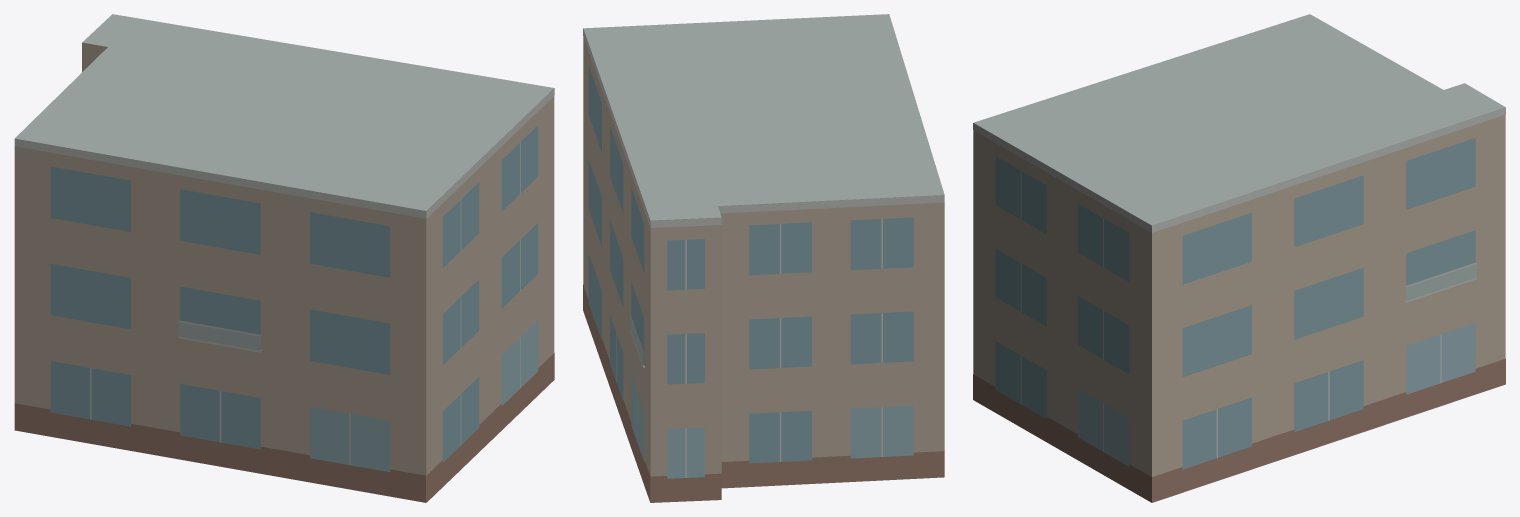
File: survey-upis-32717488.glb
3 renders of one model, left to right at view 1: azimuth 30°, elevation 25°; view 2: azimuth 150°, elevation 25°; view 3: azimuth 270°, elevation 25°, orthographic. The views are drawn at different scales.
Parts seen in each view (by area): view 1: survey-upis-32717488.tmp; view 2: survey-upis-32717488.tmp; view 3: survey-upis-32717488.tmp.
Part boxes in pixels (x1,y1,x2,y2): survey-upis-32717488.tmp: (14, 14, 554, 502); survey-upis-32717488.tmp: (583, 14, 944, 502); survey-upis-32717488.tmp: (973, 14, 1505, 502).
Size of the model in its own units: 14.99 by 9.15 by 15.94.
